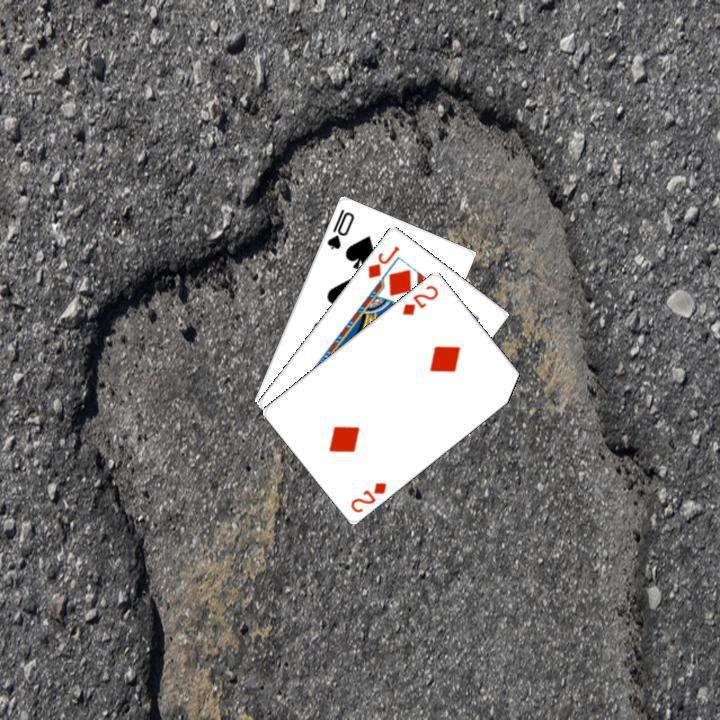10: (322, 204, 356, 251)
2: (398, 280, 441, 317), (346, 477, 389, 514)
J: (363, 241, 402, 280)
